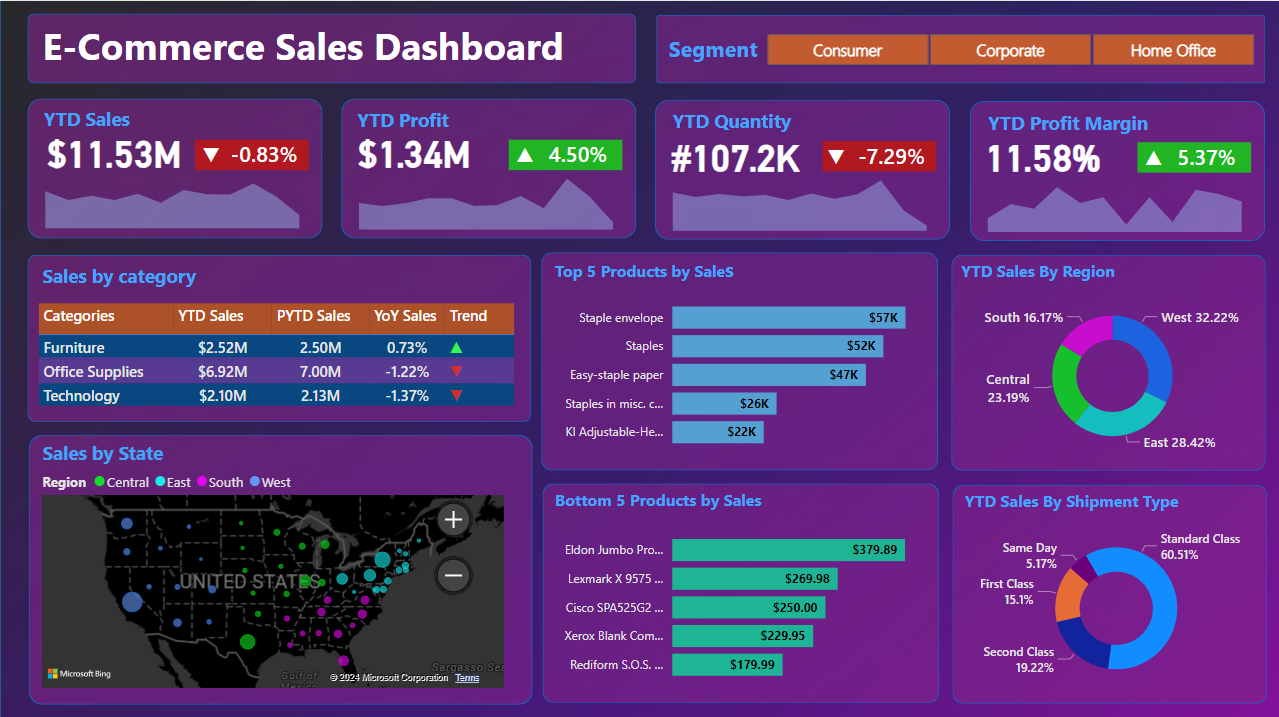

What the dashboard file says about the page in this screenshot:
{"tool":"powerbi","page":{"name":"Page 1","canvas":[1280,720],"ordinal":0},"visuals":[{"type":"shape","box":[341.5,97.5,295,140],"z":0},{"type":"shape","box":[27.5,12.5,608.8,70],"z":1000},{"type":"textbox","box":[37.5,13.8,598.8,70],"z":2000},{"type":"shape","box":[27.5,97.5,295,140],"z":3000},{"type":"card","fields":{"Values":["#Measures.YTD Sales"]},"box":[33.8,127.5,161.2,45],"z":4000},{"type":"areaChart","fields":{"Category":["Calendar.Month"],"Y":["Sum(sales_data.sales_per_order)"]},"box":[31.2,161.2,282.5,71.2],"z":5000},{"type":"shape","box":[195,138.8,113.8,30],"z":6000},{"type":"card","fields":{"Values":["#Measures.YoY Sales"]},"box":[217.5,141.2,93.8,27.5],"z":7000},{"type":"card","fields":{"Values":["#Measures.Sales Icon"]},"box":[192.5,136.2,37.5,37.5],"z":8000},{"type":"textbox","box":[16.2,100,141.2,40],"z":9000},{"type":"card","fields":{"Values":["#Measures.YTD Profit"]},"box":[338.8,127.5,151.2,45],"z":10000},{"type":"areaChart","fields":{"Category":["Calendar.Month"],"Y":["Sum(sales_data.profit_per_order)"]},"box":[345,162.5,282.5,71.2],"z":11000},{"type":"shape","box":[509,138.8,113.8,30],"z":12000},{"type":"card","fields":{"Values":["#Measures.YoY Profit"]},"box":[531.5,141.2,93.8,27.5],"z":13000},{"type":"card","fields":{"Values":["#Measures.Profit Icon"]},"box":[506.2,136.2,37.5,37.5],"z":14000},{"type":"textbox","box":[332.5,101.2,141.2,40],"z":15000},{"type":"shape","box":[655.5,98.5,295,140],"z":16000},{"type":"card","fields":{"Values":["#QtyMeasures.Concatenated YTD Qty"]},"box":[660,131.2,151.2,45],"z":17000},{"type":"areaChart","fields":{"Category":["Calendar.Month"],"Y":["Sum(sales_data.order_quantity)"]},"box":[659,163.5,282.5,71.2],"z":18000},{"type":"shape","box":[823,139.8,113.8,30],"z":19000},{"type":"card","fields":{"Values":["#QtyMeasures.YoY Qty"]},"box":[845.5,142.3,93.8,27.5],"z":20000},{"type":"textbox","box":[661.2,102.5,141.2,40],"z":21000},{"type":"shape","box":[970.5,100.5,295,140],"z":22000},{"type":"card","fields":{"Values":["#MarginMeasures.Profit Margin YTD"]},"box":[967.5,131.2,151.2,45],"z":23000},{"type":"areaChart","fields":{"Category":["Calendar.Month"],"Y":["#MarginMeasures.Profit Margin"]},"box":[974,165.5,282.5,71.2],"z":24000},{"type":"shape","box":[1138,141.7,113.8,30],"z":25000},{"type":"card","fields":{"Values":["#MarginMeasures.YoY Margin"]},"box":[1160.5,144.2,93.8,27.5],"z":26000},{"type":"card","fields":{"Values":["#MarginMeasures.Margin Icon"]},"box":[1134.9,139.9,37.4,37.4],"z":27000},{"type":"textbox","box":[962.5,103.8,211.2,40],"z":28000},{"type":"card","fields":{"Values":["#QtyMeasures.Qty Icon"]},"box":[811.2,138.8,50,37.5],"z":29000},{"type":"shape","box":[27.5,253.8,503.8,167.5],"z":30000},{"type":"tableEx","title":"Sales by Category","fields":{"Values":["sales_data.category_name","#Measures.YTD Sales","#Measures.PYTD Sales","#Measures.YoY Sales","#Measures.Sales Icon"]},"box":[32.6,297.9,492.1,125.4],"z":31000},{"type":"textbox","box":[37.4,258.1,173.7,39.8],"z":32000},{"type":"shape","box":[541.5,250.9,396.8,218.3],"z":32500},{"type":"shape","box":[28.8,433.8,503.8,270],"z":33000},{"type":"map","fields":{"Series":["sales_data.customer_region"],"Size":["#Measures.YTD Sales"],"Category":["sales_data.customer_state"]},"box":[37.5,460,471.2,232.5],"z":34000},{"type":"textbox","box":[37.5,433.8,141.2,40],"z":35000},{"type":"shape","box":[542.7,482.4,396.8,219.5],"z":37000},{"type":"shape","box":[952.8,483.6,314.8,219],"z":38000},{"type":"barChart","fields":{"Y":["#Measures.YTD Sales"],"Category":["sales_data.product_name"]},"box":[547.5,281,375.1,178.5],"z":39000},{"type":"textbox","box":[549.9,250.9,206.2,39.8],"z":40000},{"type":"textbox","box":[549.9,482.4,238.8,39.8],"z":41000},{"type":"barChart","fields":{"Y":["#Measures.YTD Sales"],"Category":["sales_data.product_name"]},"box":[547.5,513.8,375.1,178.5],"z":42000},{"type":"shape","box":[951.6,253.3,314.8,215.9],"z":43000},{"type":"donutChart","fields":{"Y":["#Measures.YTD Sales"],"Category":["sales_data.customer_region"]},"box":[962.4,291.9,300.3,167.6],"z":44000},{"type":"textbox","box":[956.4,253.3,178.5,39.8],"z":45000},{"type":"textbox","box":[960,483.6,235.2,39.8],"z":46000},{"type":"donutChart","fields":{"Category":["sales_data.shipping_type"],"Y":["#Measures.YTD Sales"]},"box":[967.2,522.2,297.9,170.1],"z":47000},{"type":"shape","box":[656.1,13.3,609,68.7],"z":48000},{"type":"slicer","fields":{"Values":["sales_data.customer_segment"]},"box":[741.7,26.5,536.7,41],"z":49000},{"type":"textbox","box":[663.3,27.7,125.4,39.8],"z":50000}]}

Visuals, with their boxes in screenshot pixels (x1, y1, x2, y2), scaled from the page's 1280x720 canvas onto the 1279x717 screenshot:
shape: <bbox>341, 97, 636, 237</bbox>
shape: <bbox>27, 12, 636, 82</bbox>
textbox: <bbox>37, 14, 636, 83</bbox>
shape: <bbox>27, 97, 322, 237</bbox>
card - #Measures.YTD Sales: <bbox>34, 127, 195, 172</bbox>
areaChart - Calendar.Month x Sum(sales_data.sales_per_order): <bbox>31, 161, 313, 231</bbox>
shape: <bbox>195, 138, 309, 168</bbox>
card - #Measures.YoY Sales: <bbox>217, 141, 311, 168</bbox>
card - #Measures.Sales Icon: <bbox>192, 136, 230, 173</bbox>
textbox: <bbox>16, 100, 157, 139</bbox>
card - #Measures.YTD Profit: <bbox>339, 127, 490, 172</bbox>
areaChart - Calendar.Month x Sum(sales_data.profit_per_order): <bbox>345, 162, 627, 233</bbox>
shape: <bbox>509, 138, 622, 168</bbox>
card - #Measures.YoY Profit: <bbox>531, 141, 625, 168</bbox>
card - #Measures.Profit Icon: <bbox>506, 136, 543, 173</bbox>
textbox: <bbox>332, 101, 473, 141</bbox>
shape: <bbox>655, 98, 950, 238</bbox>
card - #QtyMeasures.Concatenated YTD Qty: <bbox>659, 131, 811, 175</bbox>
areaChart - Calendar.Month x Sum(sales_data.order_quantity): <bbox>658, 163, 941, 234</bbox>
shape: <bbox>822, 139, 936, 169</bbox>
card - #QtyMeasures.YoY Qty: <bbox>845, 142, 939, 169</bbox>
textbox: <bbox>661, 102, 802, 142</bbox>
shape: <bbox>970, 100, 1265, 239</bbox>
card - #MarginMeasures.Profit Margin YTD: <bbox>967, 131, 1118, 175</bbox>
areaChart - Calendar.Month x #MarginMeasures.Profit Margin: <bbox>973, 165, 1256, 236</bbox>
shape: <bbox>1137, 141, 1251, 171</bbox>
card - #MarginMeasures.YoY Margin: <bbox>1160, 144, 1253, 171</bbox>
card - #MarginMeasures.Margin Icon: <bbox>1134, 139, 1171, 177</bbox>
textbox: <bbox>962, 103, 1173, 143</bbox>
card - #QtyMeasures.Qty Icon: <bbox>811, 138, 861, 176</bbox>
shape: <bbox>27, 253, 531, 420</bbox>
"Sales by Category" tableEx: <bbox>33, 297, 524, 422</bbox>
textbox: <bbox>37, 257, 211, 297</bbox>
shape: <bbox>541, 250, 938, 467</bbox>
shape: <bbox>29, 432, 532, 701</bbox>
map - sales_data.customer_region x #Measures.YTD Sales: <bbox>37, 458, 508, 690</bbox>
textbox: <bbox>37, 432, 179, 472</bbox>
shape: <bbox>542, 480, 939, 699</bbox>
shape: <bbox>952, 482, 1267, 700</bbox>
barChart - #Measures.YTD Sales x sales_data.product_name: <bbox>547, 280, 922, 458</bbox>
textbox: <bbox>549, 250, 756, 289</bbox>
textbox: <bbox>549, 480, 788, 520</bbox>
barChart - #Measures.YTD Sales x sales_data.product_name: <bbox>547, 512, 922, 689</bbox>
shape: <bbox>951, 252, 1265, 467</bbox>
donutChart - #Measures.YTD Sales x sales_data.customer_region: <bbox>962, 291, 1262, 458</bbox>
textbox: <bbox>956, 252, 1134, 292</bbox>
textbox: <bbox>959, 482, 1194, 521</bbox>
donutChart - sales_data.shipping_type x #Measures.YTD Sales: <bbox>966, 520, 1264, 689</bbox>
shape: <bbox>656, 13, 1264, 82</bbox>
slicer - sales_data.customer_segment: <bbox>741, 26, 1277, 67</bbox>
textbox: <bbox>663, 28, 788, 67</bbox>
